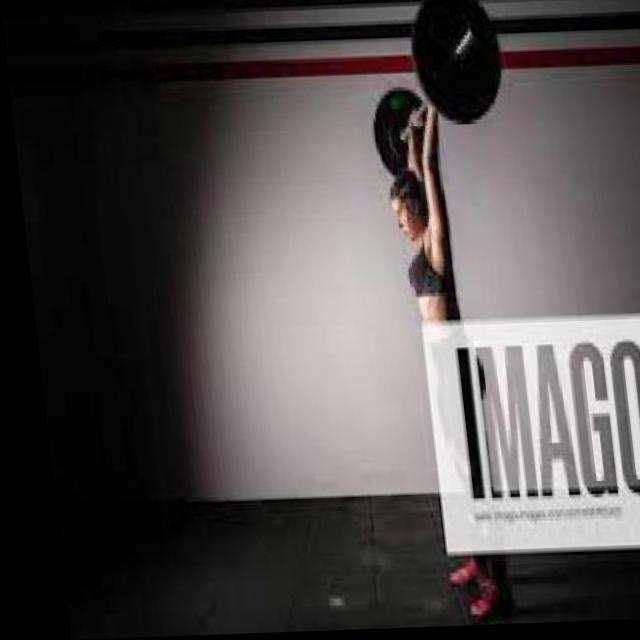barbell: (401, 1, 519, 133)
